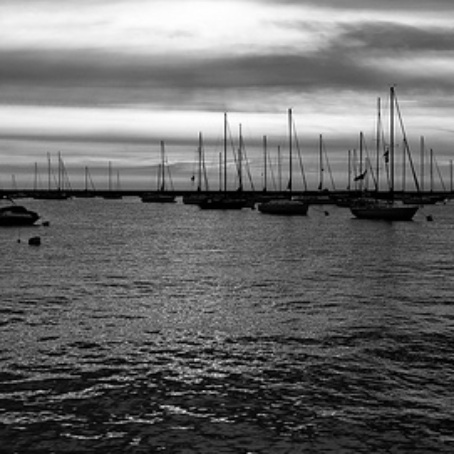boat: (344, 73, 419, 224), (251, 97, 330, 223), (182, 106, 257, 212), (135, 136, 186, 208), (26, 140, 71, 201), (95, 151, 129, 203)
sea: (12, 207, 454, 454)
sky: (6, 1, 454, 176)
